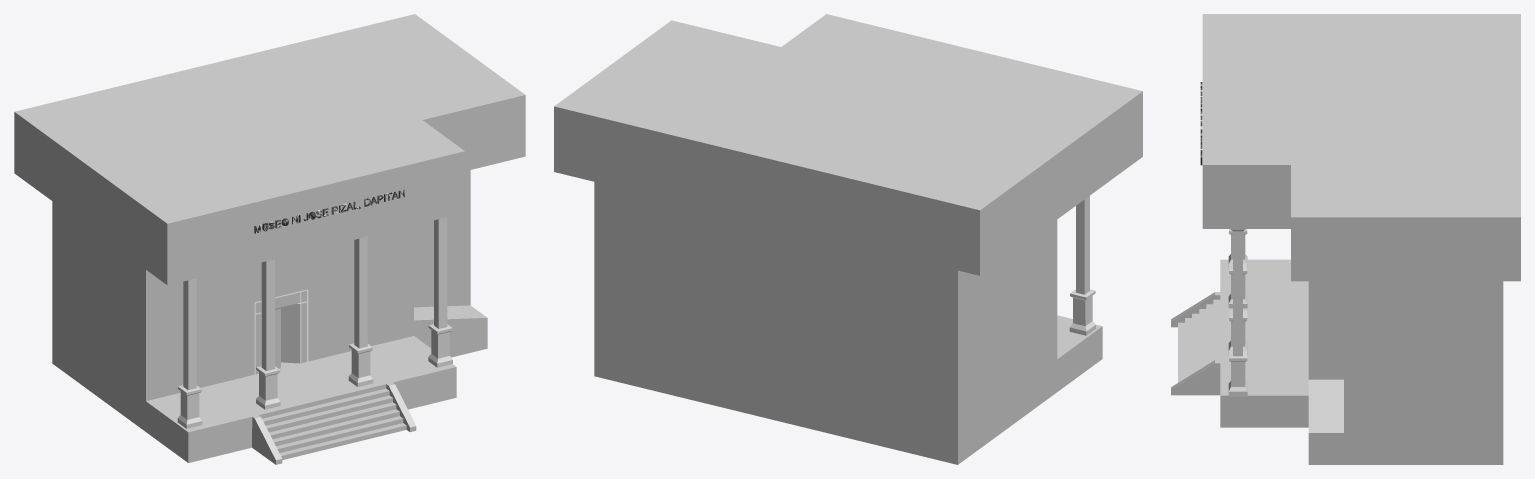
File: museo.fbx
3 renders of one model, left to right at view 1: azimuth 30°, elevation 25°; view 2: azimuth 150°, elevation 25°; view 3: azimuth 270°, elevation 25°, orthographic. The views are drawn at different scales.
Parts seen in each view (by area): view 1: Cube, Cube.002, Cube.003, Cube.004, Cube.001, Museo ni Rizal, Cube.006, Cube.005; view 2: Cube, Cube.003; view 3: Cube, Cube.004, Cube.005, Cube.006.
Part boxes in pixels (bbox=[...]): Cube: bbox=[14, 14, 525, 462]; Cube.002: bbox=[348, 236, 373, 386]; Cube.003: bbox=[177, 278, 202, 428]; Cube.004: bbox=[428, 217, 452, 367]; Cube.001: bbox=[256, 259, 280, 409]; Museo ni Rizal: bbox=[254, 189, 404, 233]; Cube.006: bbox=[252, 415, 282, 464]; Cube.005: bbox=[386, 382, 416, 432]; Cube: bbox=[554, 14, 1142, 464]; Cube.003: bbox=[1069, 196, 1095, 335]; Cube: bbox=[1178, 14, 1520, 464]; Cube.004: bbox=[1228, 229, 1247, 396]; Cube.005: bbox=[1171, 360, 1220, 395]; Cube.006: bbox=[1171, 292, 1220, 327].
Bounding box in the file's own units: 27.2 × 19.79 × 16.4.
